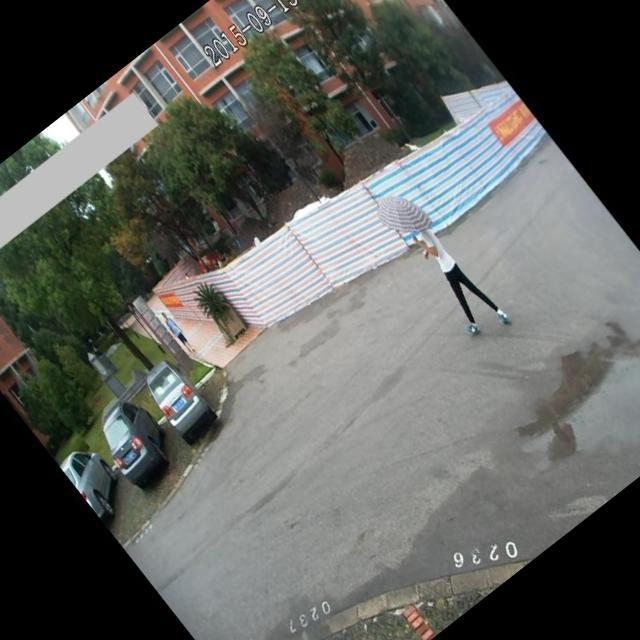person: (367, 180, 514, 350), (157, 306, 200, 356)
